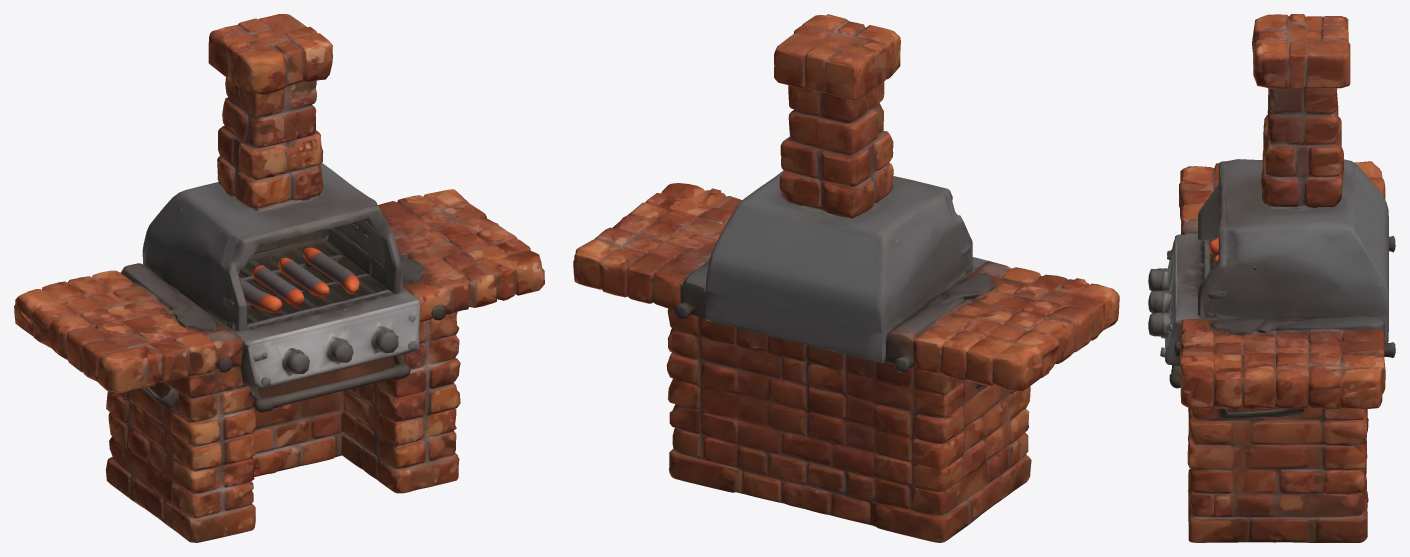
File: quintal_churrasqueira.glb
The picture shows the model from 3 angles, left to right: view 1: azimuth 30°, elevation 25°; view 2: azimuth 150°, elevation 25°; view 3: azimuth 270°, elevation 25°; orthographic projection. The views are drawn at different scales.
Parts seen in each view (by area): view 1: tripo_node_a312b0aa-a5fd-4e06-a79b-379fdb9601a7; view 2: tripo_node_a312b0aa-a5fd-4e06-a79b-379fdb9601a7; view 3: tripo_node_a312b0aa-a5fd-4e06-a79b-379fdb9601a7.
Boxes of the visible parts, box(x1,y1,x2,y2) form: tripo_node_a312b0aa-a5fd-4e06-a79b-379fdb9601a7: box(14, 14, 544, 542); tripo_node_a312b0aa-a5fd-4e06-a79b-379fdb9601a7: box(573, 14, 1119, 542); tripo_node_a312b0aa-a5fd-4e06-a79b-379fdb9601a7: box(1148, 14, 1395, 542).
Bounding box in the file's own units: 0.9798 × 0.9255 × 0.4663.
Materials: 1 (1 with a texture image).
